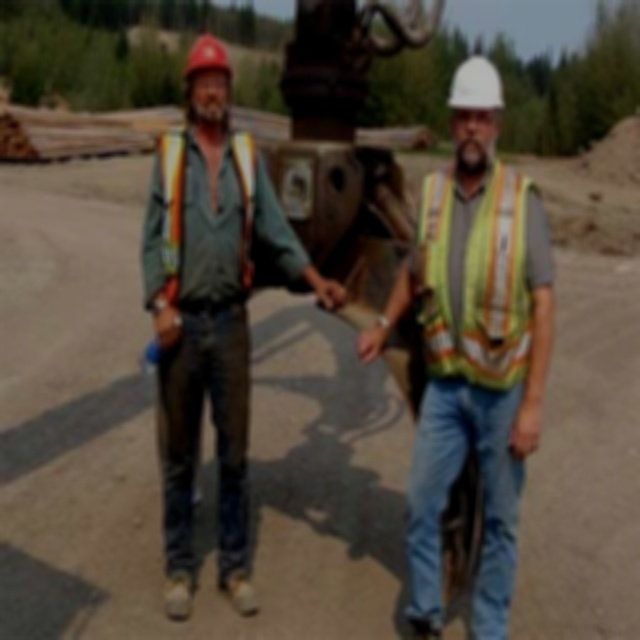Con_Casco: (449, 54, 507, 166), (186, 36, 235, 130)
Con_Chaleco: (419, 168, 532, 375), (154, 129, 255, 306)
